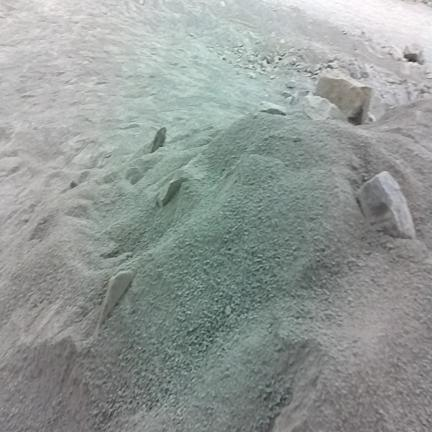Rock: (357, 172, 415, 238), (315, 71, 371, 124), (98, 271, 136, 327), (303, 95, 346, 120), (157, 178, 182, 207), (126, 158, 149, 184), (403, 44, 424, 64), (0, 157, 21, 176), (150, 128, 166, 152), (259, 102, 286, 115), (386, 46, 403, 61), (282, 90, 298, 105), (348, 65, 362, 79), (350, 155, 360, 170), (289, 91, 298, 105), (327, 61, 339, 70), (286, 80, 297, 89), (70, 181, 78, 189), (282, 91, 291, 98), (225, 305, 231, 315), (369, 113, 376, 121), (247, 72, 256, 78), (287, 96, 293, 104), (270, 75, 276, 79)
